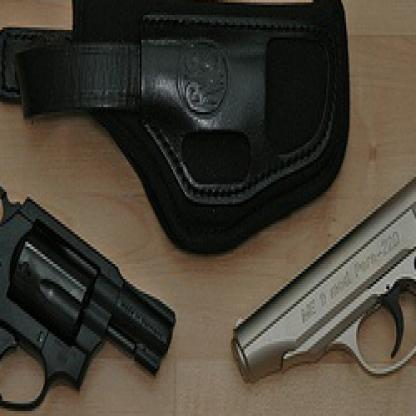gun: (233, 132, 414, 411), (0, 174, 182, 409)
